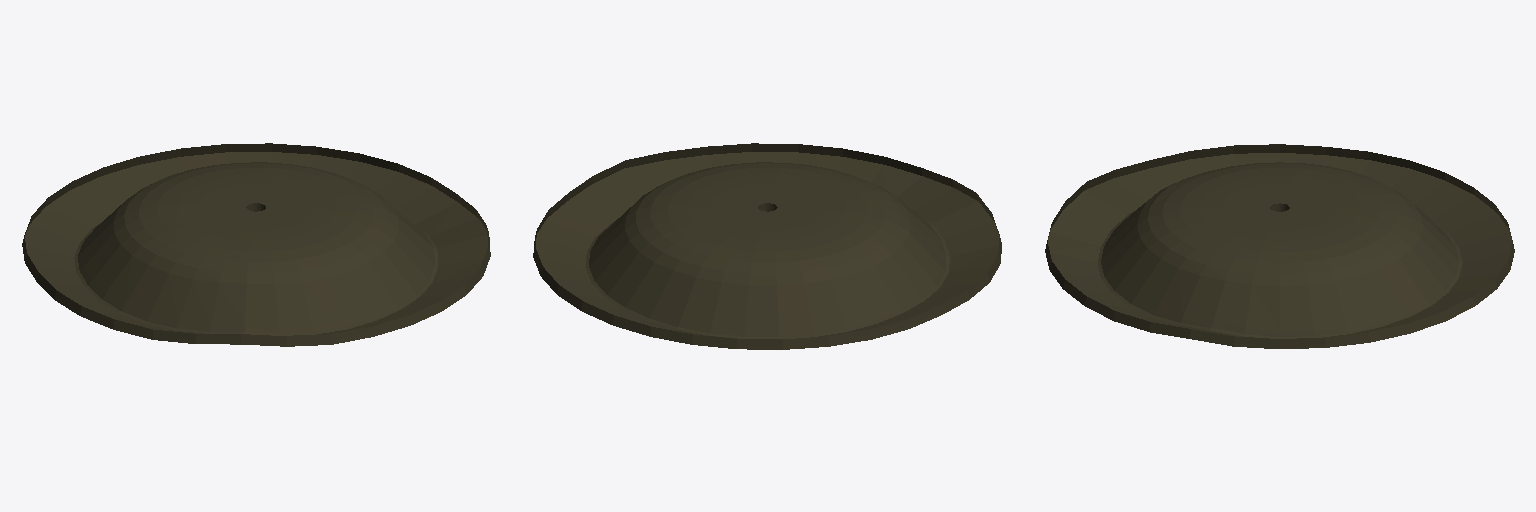
Rendered from vent.obj.
3 views of the same model, side by side, from view 1: azimuth 30°, elevation 25°; view 2: azimuth 150°, elevation 25°; view 3: azimuth 270°, elevation 25° (orthographic).
Visible parts, largest first — view 1: ceilingAirVent.002; view 2: ceilingAirVent.002; view 3: ceilingAirVent.002.
Part boxes in pixels (left/top/right/bottom): ceilingAirVent.002: left=22, top=143, right=490, bottom=346; ceilingAirVent.002: left=533, top=143, right=1001, bottom=349; ceilingAirVent.002: left=1045, top=144, right=1514, bottom=348.
Bounding box in the file's own units: 0.4974 × 0.1152 × 0.5026.